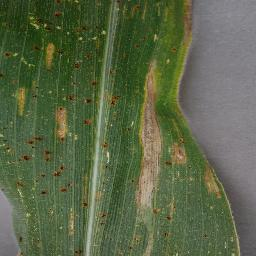Gray_Leaf_Spot: (134, 69, 169, 195), (106, 0, 197, 16), (201, 164, 232, 207), (172, 0, 202, 44), (7, 85, 46, 116), (49, 103, 79, 140), (161, 139, 195, 169), (37, 158, 62, 198), (86, 166, 107, 209), (74, 23, 108, 48), (27, 11, 60, 35), (38, 35, 58, 71), (71, 46, 93, 75), (62, 205, 82, 236), (31, 129, 51, 160), (95, 205, 116, 232), (149, 206, 176, 226), (16, 136, 35, 164), (230, 217, 243, 256), (103, 65, 134, 81), (10, 229, 28, 256), (0, 49, 23, 70), (62, 95, 93, 109), (106, 87, 123, 111), (156, 232, 173, 256), (2, 127, 12, 167), (46, 0, 64, 20), (59, 178, 80, 195), (88, 75, 104, 91), (65, 244, 85, 256), (132, 37, 153, 47), (78, 118, 101, 126), (12, 177, 26, 190), (98, 142, 114, 151)
